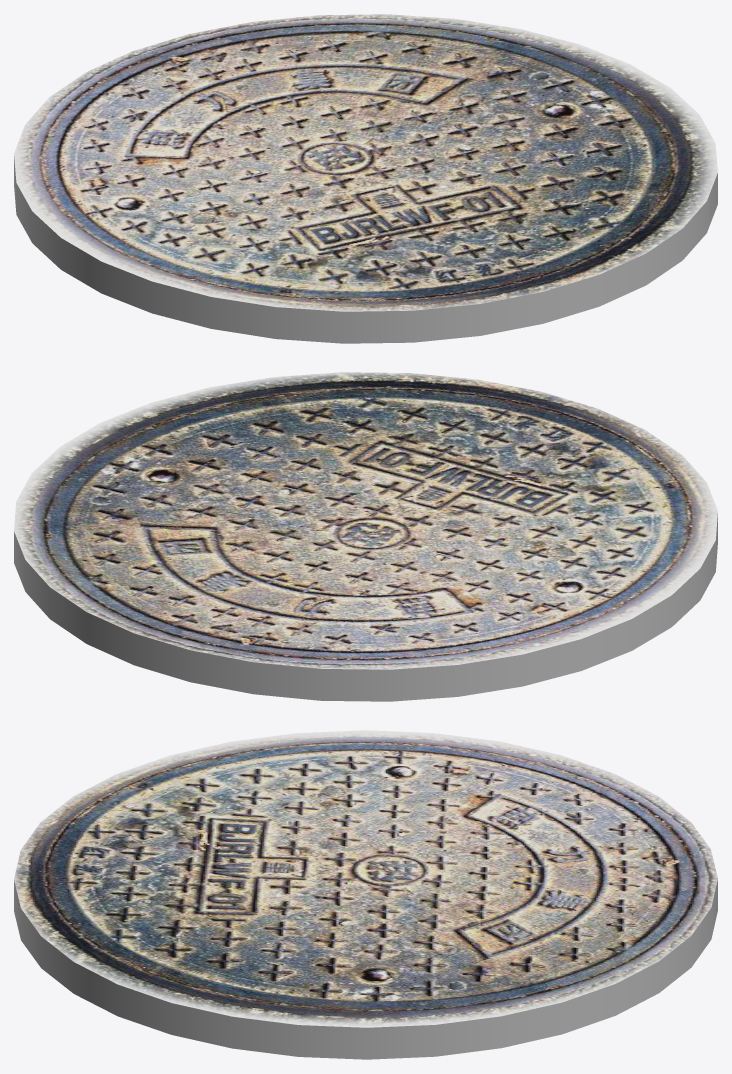
3 renders of one model, top to bottom at view 1: azimuth 30°, elevation 25°; view 2: azimuth 150°, elevation 25°; view 3: azimuth 270°, elevation 25°, orthographic.
Parts seen in each view (by area): view 1: 562000_1; view 2: 562000_1; view 3: 562000_1.
Part boxes in pixels (bbox=[...]): 562000_1: bbox=[14, 14, 717, 343]; 562000_1: bbox=[14, 372, 717, 701]; 562000_1: bbox=[14, 730, 717, 1059].
Size of the model in its own units: 1 by 0.05 by 1.
Materials: 2 (1 with a texture image).
